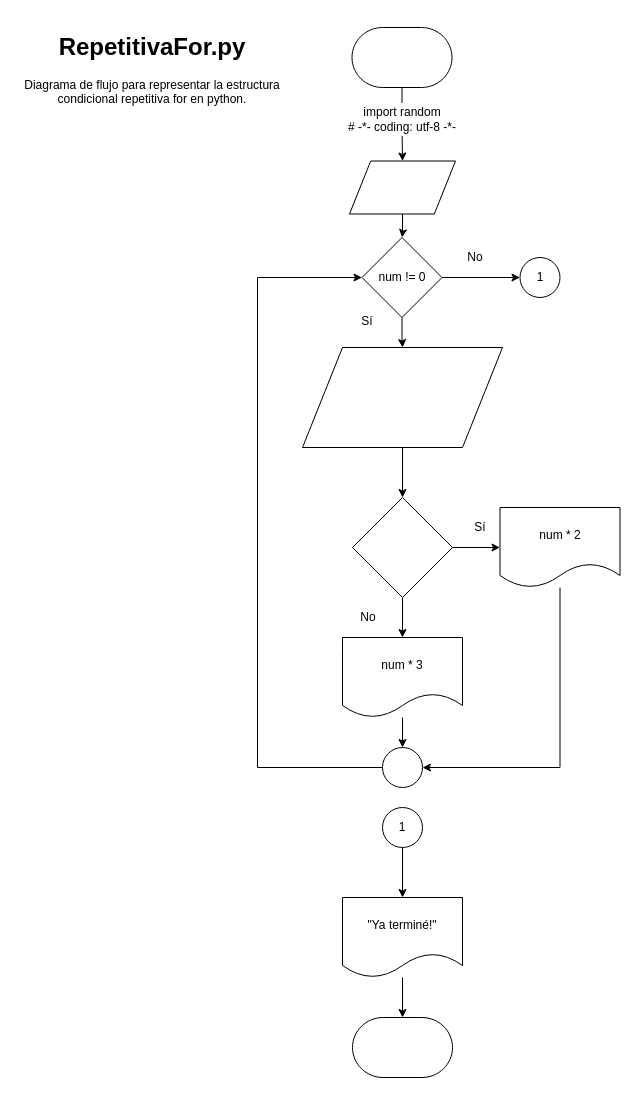
Some shapes in this 637 by 1095 pixel diagram are drawn without their labels. The shapes that lost their labels are listed below. From the top down, each one's centre as x and y in pixels, then its label:
At pixel 402 187: "num = 1".
At pixel 402 397: "num = random.randint(0, 100)".
At pixel 402 547: "num % 2 == 0".
